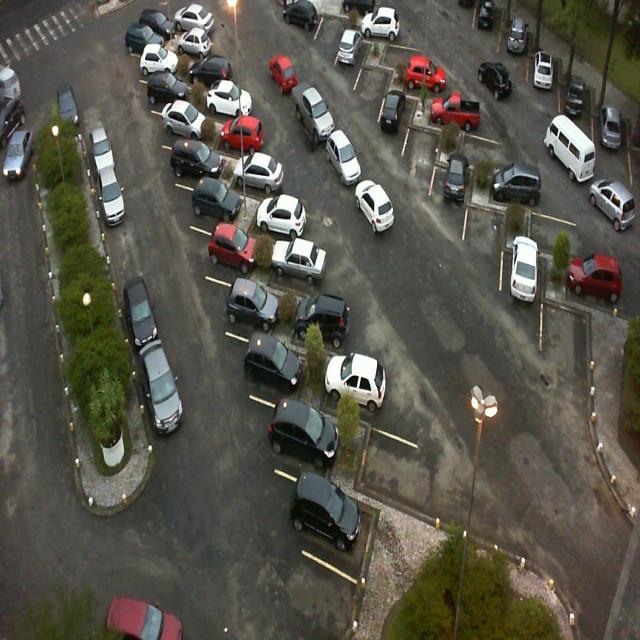car: (289, 472, 359, 552), (268, 399, 339, 464), (138, 345, 184, 437), (326, 349, 388, 410), (102, 595, 185, 640), (544, 114, 596, 184), (295, 292, 351, 352), (245, 333, 304, 389), (123, 272, 162, 354), (224, 276, 277, 333), (564, 254, 621, 303), (206, 222, 256, 275), (590, 180, 638, 234), (232, 150, 286, 197), (502, 237, 538, 304), (190, 177, 242, 223), (293, 89, 333, 148), (273, 237, 326, 280), (490, 165, 540, 210), (170, 139, 224, 180), (257, 195, 306, 239), (354, 181, 393, 236), (428, 90, 480, 130), (327, 128, 363, 185), (216, 115, 264, 157), (160, 99, 210, 139), (95, 164, 125, 228), (204, 80, 252, 118), (0, 127, 33, 181), (147, 72, 191, 110), (441, 156, 472, 208), (405, 56, 447, 94), (189, 56, 232, 90), (165, 27, 212, 58), (477, 63, 514, 101), (282, 1, 322, 36), (362, 5, 400, 40), (597, 98, 623, 149), (0, 94, 27, 143), (174, 2, 216, 32), (140, 45, 178, 78), (379, 87, 405, 133), (125, 23, 162, 55), (269, 56, 299, 95), (55, 79, 77, 131), (562, 67, 584, 118), (335, 29, 364, 67), (89, 128, 115, 167), (506, 10, 526, 58), (0, 58, 20, 101), (532, 51, 554, 90), (139, 8, 171, 34), (476, 0, 496, 38)
